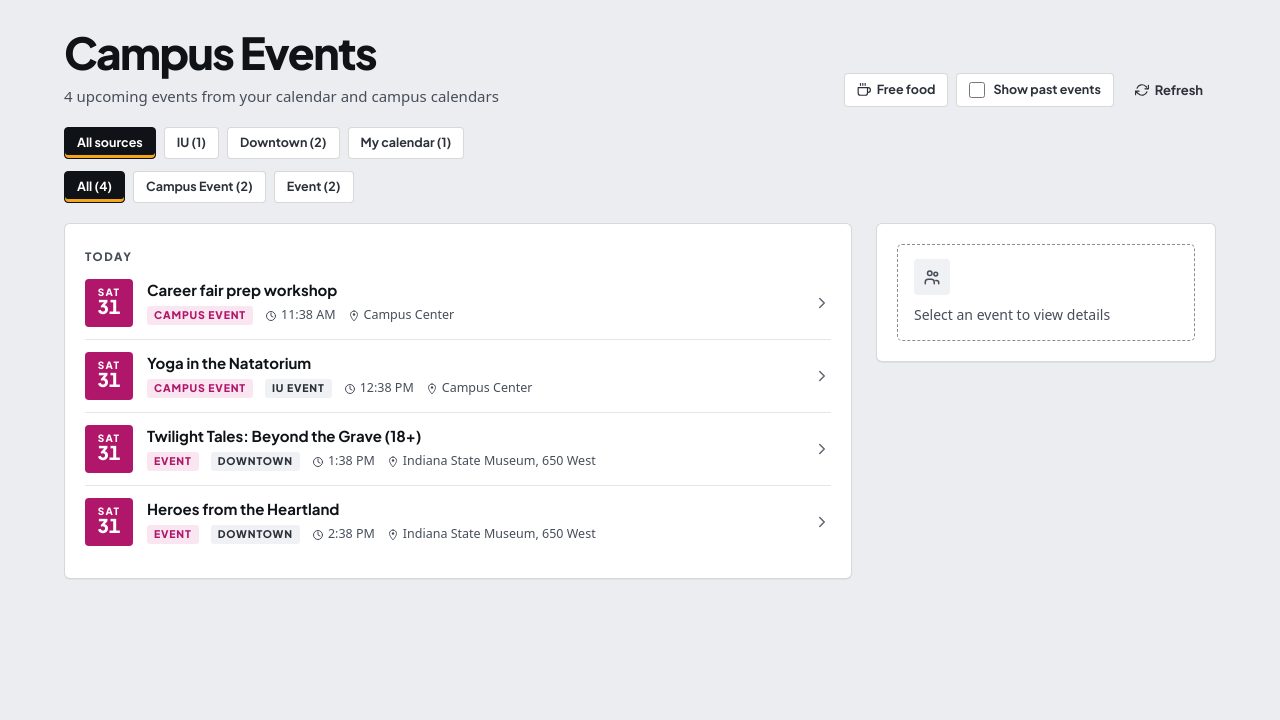
Test: shared campus events › gives downtown rows a Downtown label, an Event badge and a Downtown pill of their own
This screenshot has width=1280, height=720.
Expected: the 1st text "Event" is shown, [147, 452, 199, 471]
Expected: the button "Campus Event (2)" is shown, [133, 171, 266, 203]
Click the button "Downtown (2)": (283, 143) [227, 127, 340, 159]
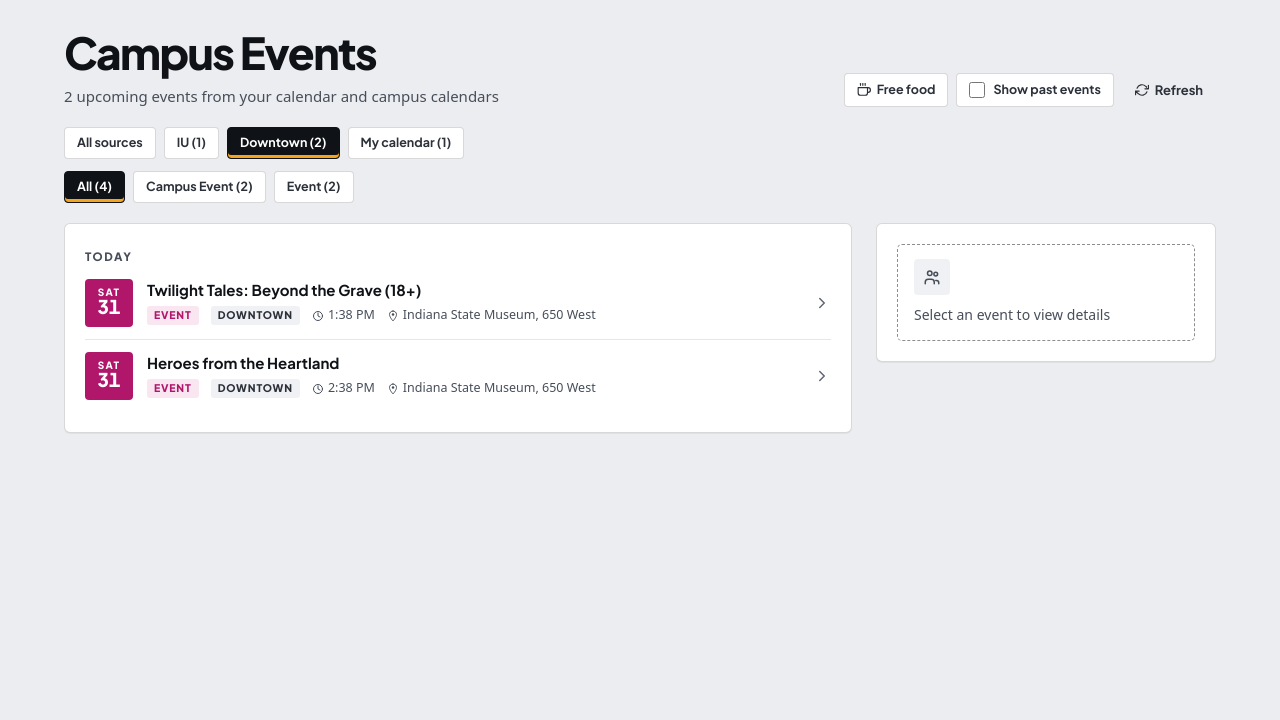
Expected: the button "Heroes from the Heartland" is shown, [73, 340, 843, 412]
Now the button "Yoga in the Natatorium" is gone
Now the button "Career fair prep workshop" is gone
Click the button "Twilight Tales": (109, 303) [73, 267, 843, 339]
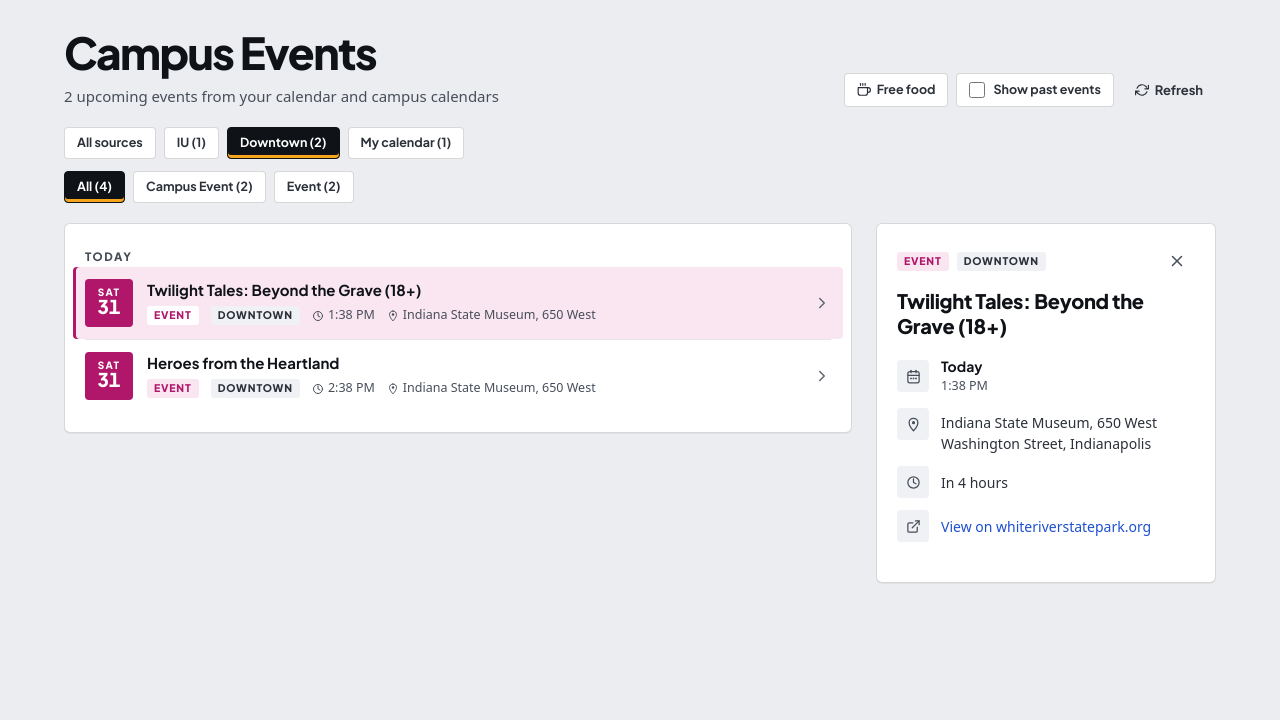
Expected: the 1st text "Event" is shown, [897, 252, 949, 271]
Now the 1st text "Downtown" is shown, box [957, 252, 1046, 271]
